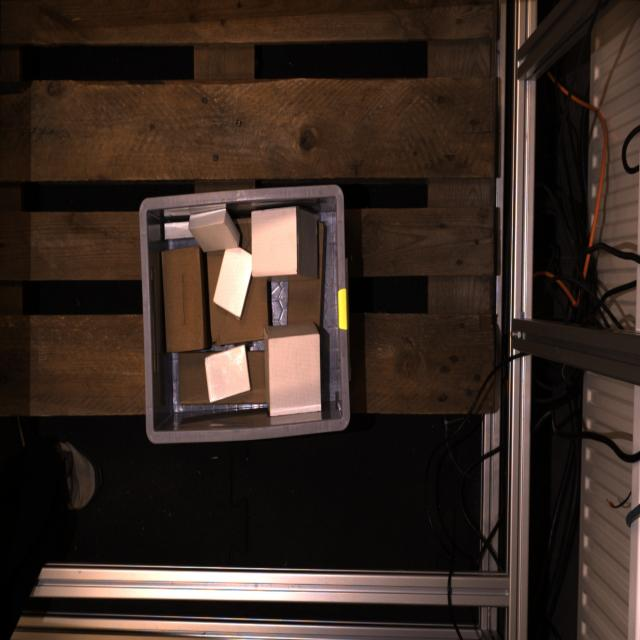CardboardBox: (207, 219, 270, 345), (264, 322, 321, 416), (162, 247, 210, 351), (251, 207, 317, 282), (178, 351, 268, 404), (287, 222, 325, 325), (212, 248, 251, 318), (205, 345, 250, 402), (189, 208, 240, 251), (164, 221, 193, 239)
